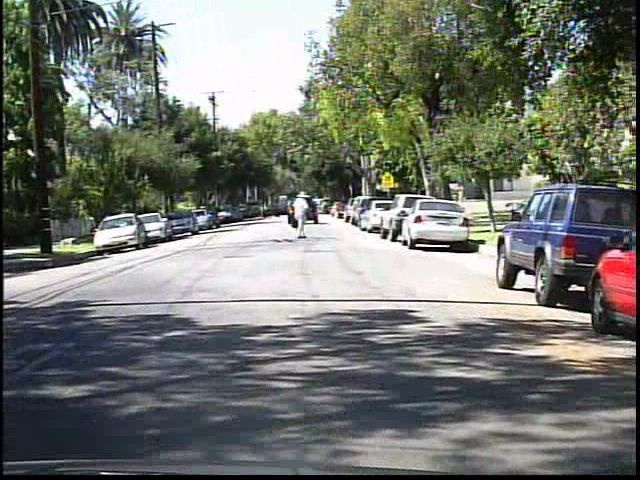person: (287, 191, 316, 242)
